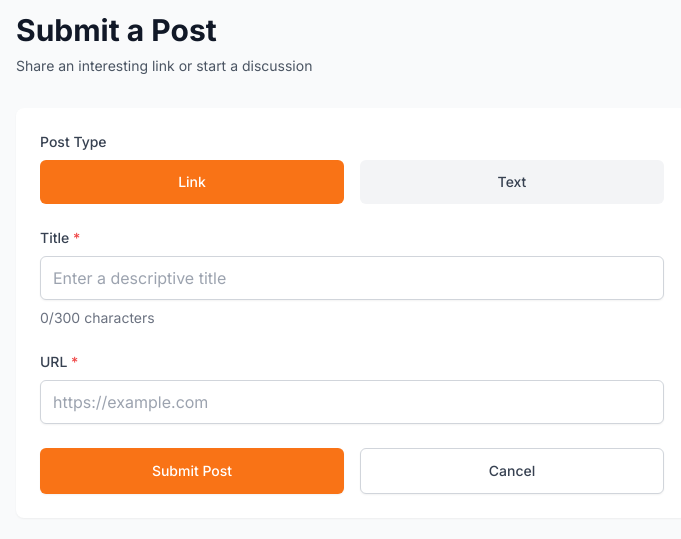
Scenario: CreatePost Page › Form Validation - Title › should show error when title is empty
Click the button "Submit Post" at coordinates (192, 471), box [40, 448, 344, 494]
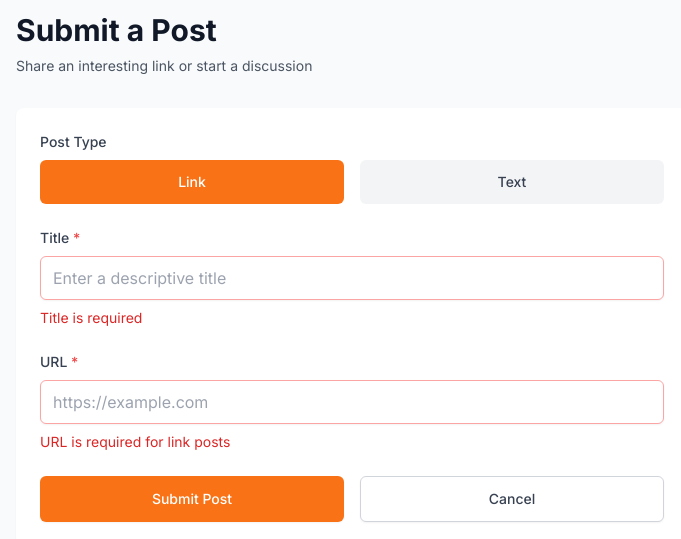
Now the text "Title is required" is shown, box [40, 309, 142, 326]
